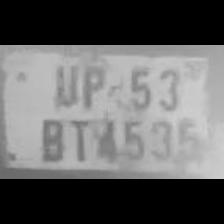3: (154, 62, 184, 112), (146, 114, 174, 162)
4: (90, 112, 119, 162)
5: (121, 62, 153, 112), (172, 112, 204, 162), (119, 112, 145, 162)
B: (34, 113, 66, 164)
P: (77, 58, 109, 108)
T: (64, 112, 92, 162)
U: (48, 58, 78, 108)
